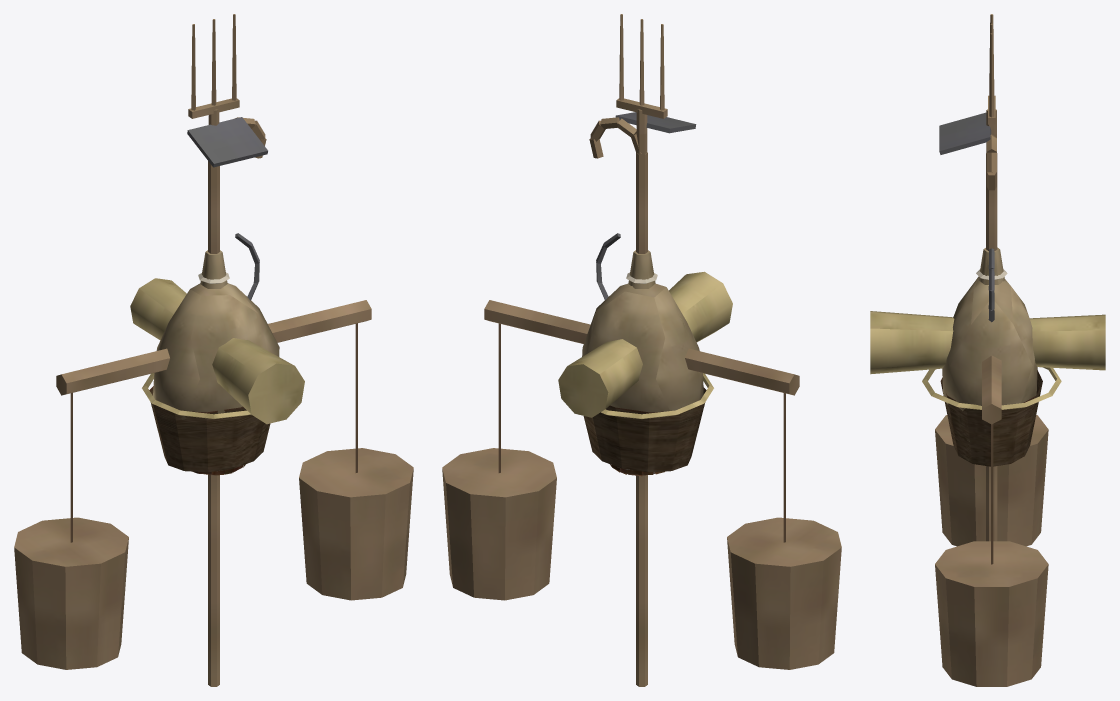
The model's file is crowd-props-farm-v1.glb.
3 renders of one model, left to right at view 1: azimuth 30°, elevation 25°; view 2: azimuth 150°, elevation 25°; view 3: azimuth 270°, elevation 25°, orthographic. The views are drawn at different scales.
Parts seen in each view (by area): view 1: prop_water_yoke, prop_sack, prop_straw_bundle, prop_feed_basket, prop_crook, prop_hoe, prop_pitchfork; view 2: prop_water_yoke, prop_sack, prop_straw_bundle, prop_feed_basket, prop_crook, prop_pitchfork, prop_hoe; view 3: prop_water_yoke, prop_sack, prop_straw_bundle, prop_feed_basket, prop_crook, prop_hoe, prop_pitchfork, prop_sickle.
Boxes of the visible parts, <box> form: prop_water_yoke: <box>14,300,413,669</box>; prop_sack: <box>153,250,279,419</box>; prop_straw_bundle: <box>130,278,304,424</box>; prop_feed_basket: <box>142,373,270,472</box>; prop_crook: <box>208,117,266,686</box>; prop_hoe: <box>187,117,267,167</box>; prop_pitchfork: <box>188,14,239,125</box>; prop_water_yoke: <box>442,300,841,669</box>; prop_sack: <box>582,250,703,412</box>; prop_straw_bundle: <box>558,271,732,417</box>; prop_feed_basket: <box>583,373,713,472</box>; prop_crook: <box>589,117,647,686</box>; prop_pitchfork: <box>616,14,667,153</box>; prop_hoe: <box>615,112,696,154</box>; prop_water_yoke: <box>935,355,1048,686</box>; prop_sack: <box>942,247,1037,410</box>; prop_straw_bundle: <box>870,311,1105,374</box>; prop_feed_basket: <box>922,367,1061,466</box>; prop_crook: <box>986,134,997,541</box>; prop_hoe: <box>939,112,996,154</box>; prop_pitchfork: <box>986,14,996,136</box>; prop_sickle: <box>988,248,994,322</box>.
Bounding box in the file's own units: 1.13 × 1.88 × 0.62.
1 material, 1 textured.
